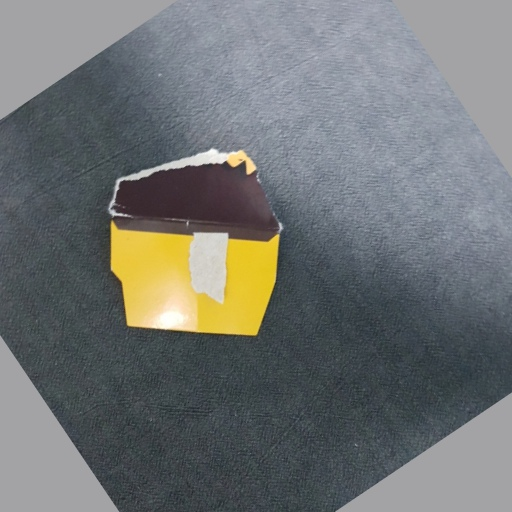Paper_2: (109, 174, 298, 350)
